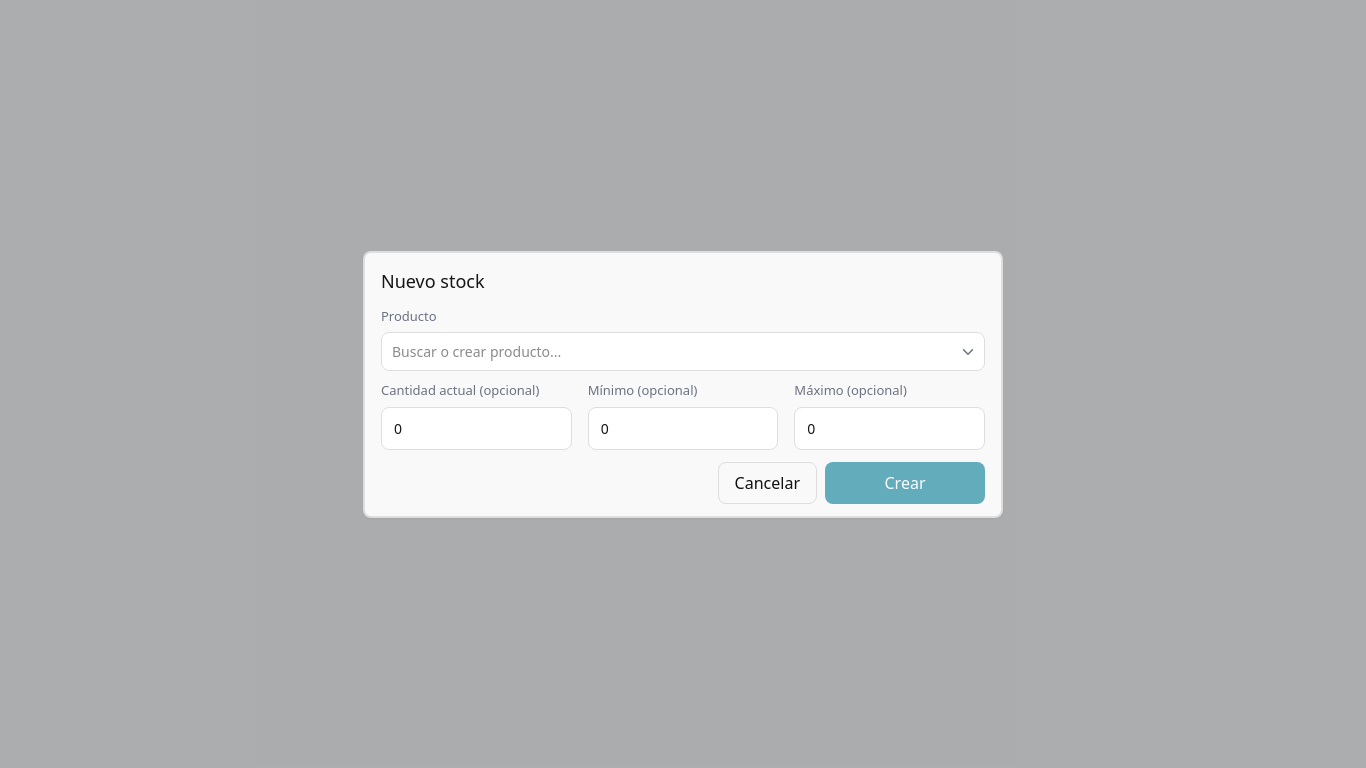
it: StockCreateModal › muestra el error embebido cuando falla el submit
Click the field with test id "stock-create-modal-producto-autocomplete": [683, 352] box [381,332,985,371]
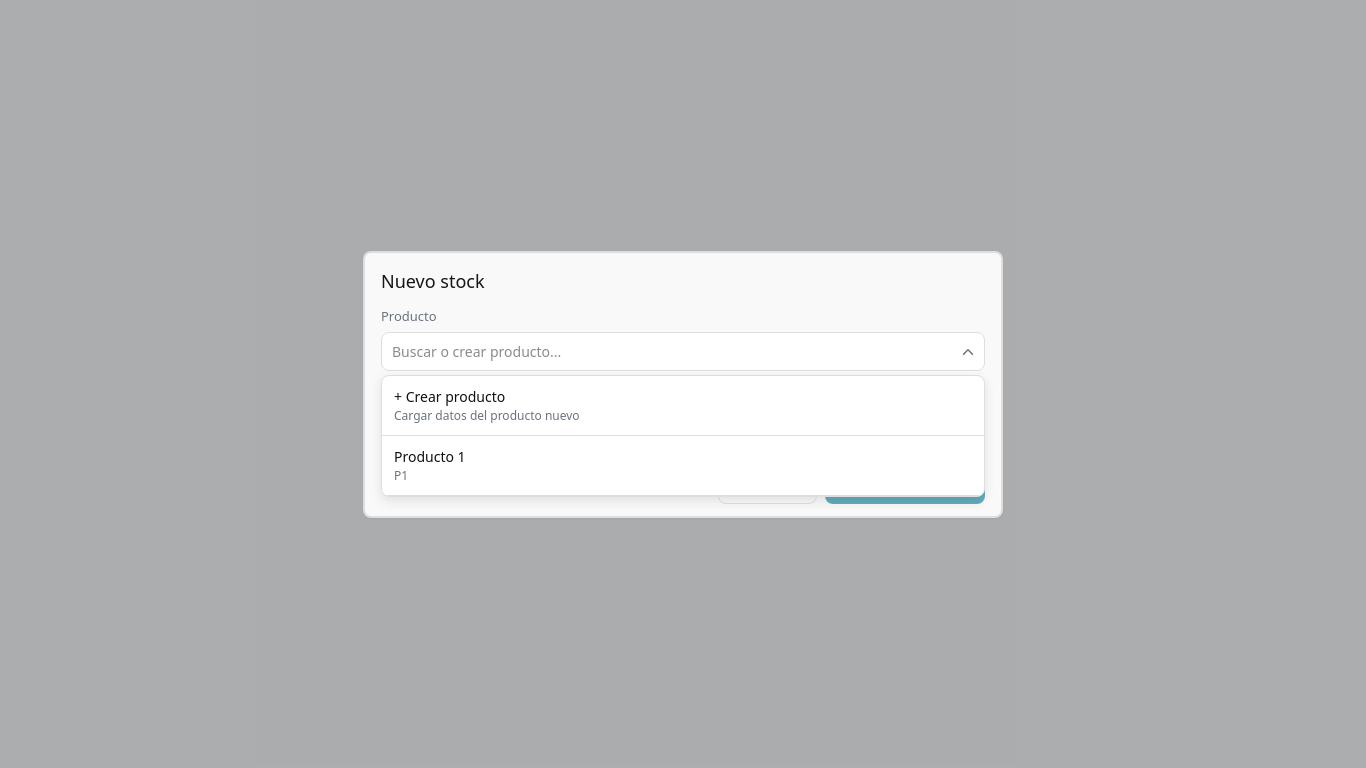
Click the text "Producto 1": [430, 456] box [394,446,466,467]
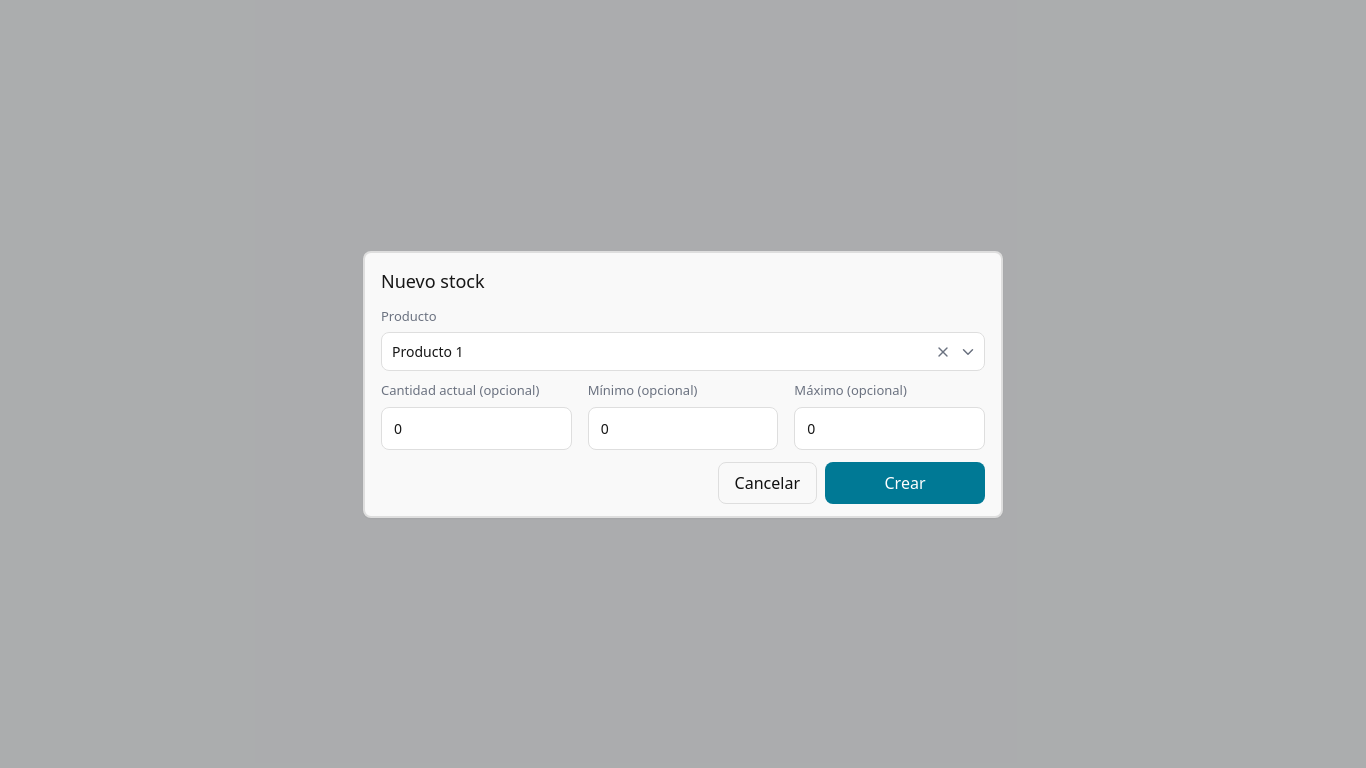
Click the button with test id "modal-submit": [905, 482] box [825,462,985,504]
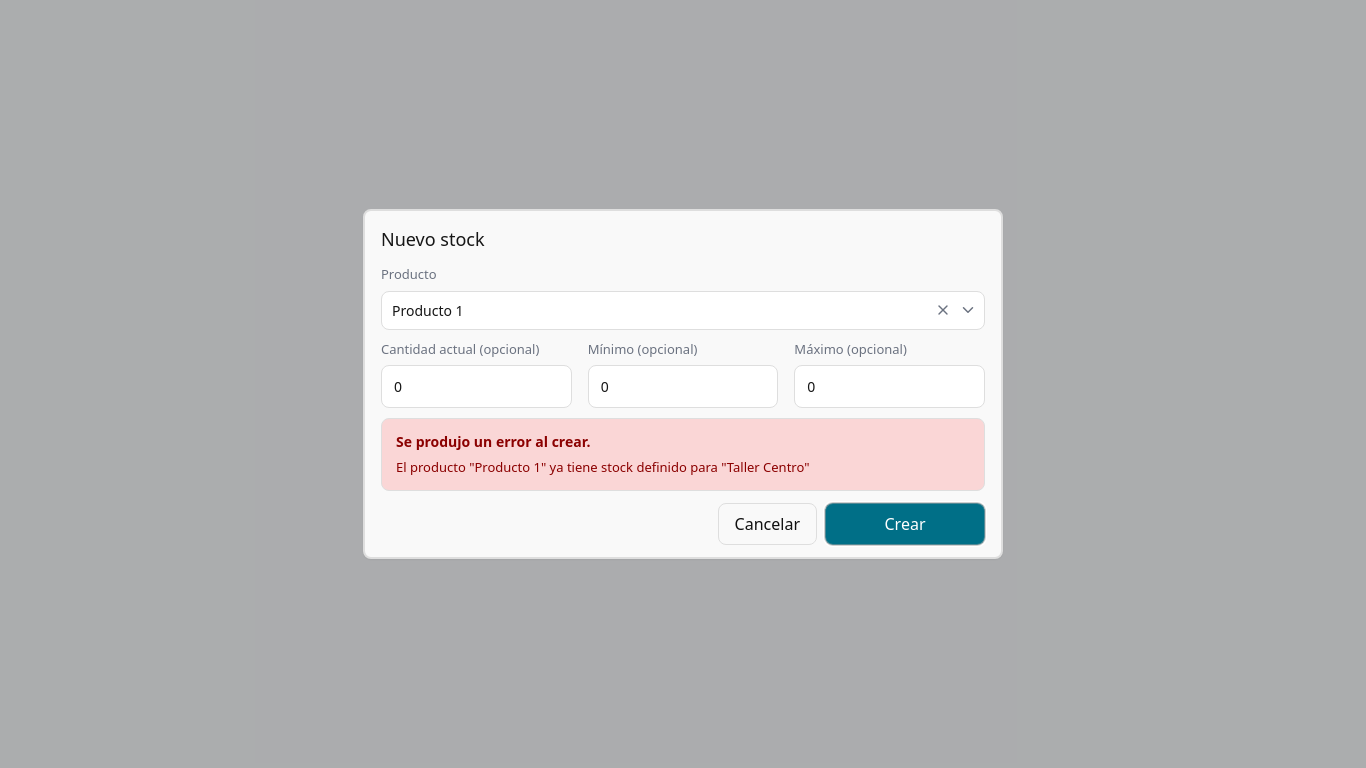
Check: the message with test id "modal-error" shows "El producto \"Producto 1\" ya tiene stock definido para \"Taller Centro\"", box [396,458,810,476]
